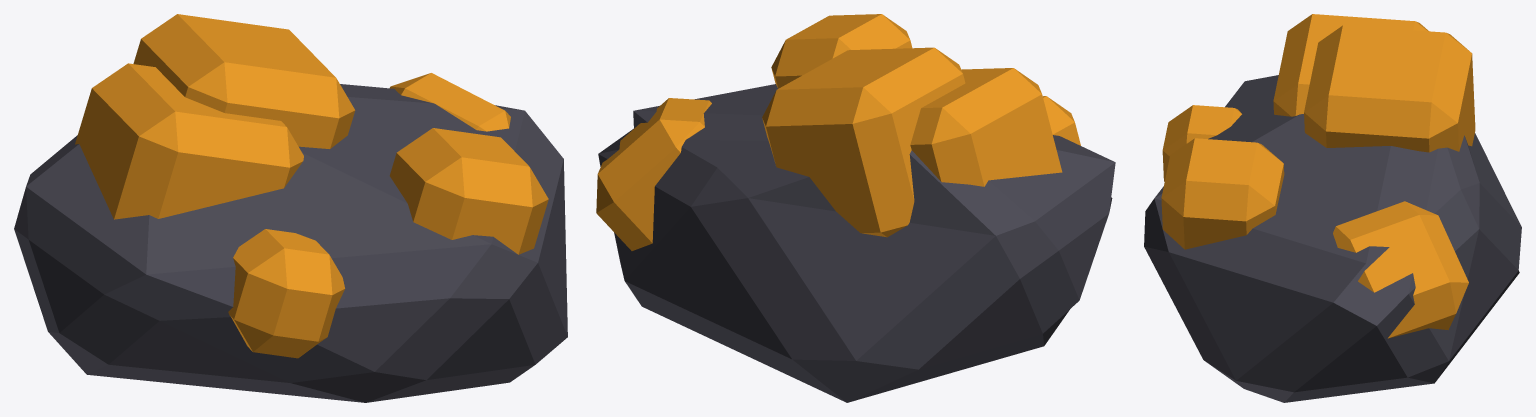
Rendered from ChckenNugget.fbx.
3 views of the same model, side by side, from view 1: azimuth 30°, elevation 25°; view 2: azimuth 150°, elevation 25°; view 3: azimuth 270°, elevation 25° (orthographic). The views are drawn at different scales.
Parts seen in each view (by area): view 1: Cube.015; view 2: Cube.015; view 3: Cube.015.
Part boxes in pixels (x1,y1,x2,y2): Cube.015: [14, 14, 567, 402]; Cube.015: [596, 14, 1115, 402]; Cube.015: [1144, 14, 1521, 402].
Bounding box in the file's own units: 188 × 121 × 147.
